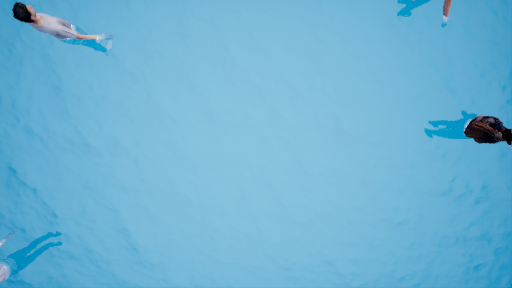person: (10, 2, 134, 65), (423, 106, 512, 160), (397, 1, 449, 40)
